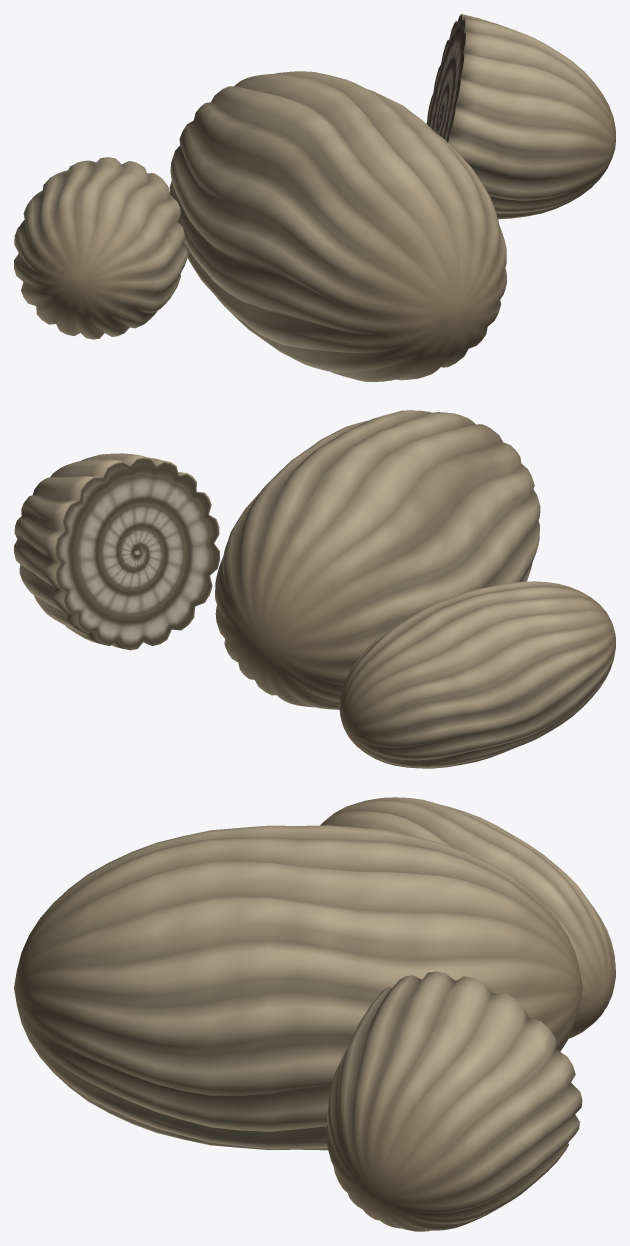
The model's file is SchwagerinaCrassitectoria.fbx.
3 views of the same model, one above another, from view 1: azimuth 30°, elevation 25°; view 2: azimuth 150°, elevation 25°; view 3: azimuth 270°, elevation 25° (orthographic). The views are drawn at different scales.
Visible parts, largest first — view 1: SchwagerinaCrassitectoria; view 2: SchwagerinaCrassitectoria; view 3: SchwagerinaCrassitectoria.
Boxes of the visible parts, box(x1,y1,x2,y2) form: SchwagerinaCrassitectoria: box(14, 14, 615, 381); SchwagerinaCrassitectoria: box(14, 410, 615, 768); SchwagerinaCrassitectoria: box(14, 797, 615, 1231).
Bounding box in the file's own units: 2.13 × 0.8568 × 1.57.
